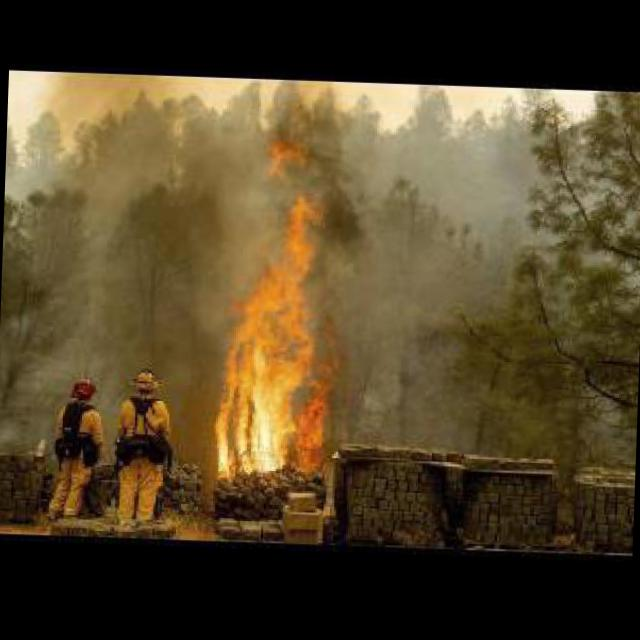fire: (205, 174, 352, 486)
smoke: (283, 96, 376, 256)
